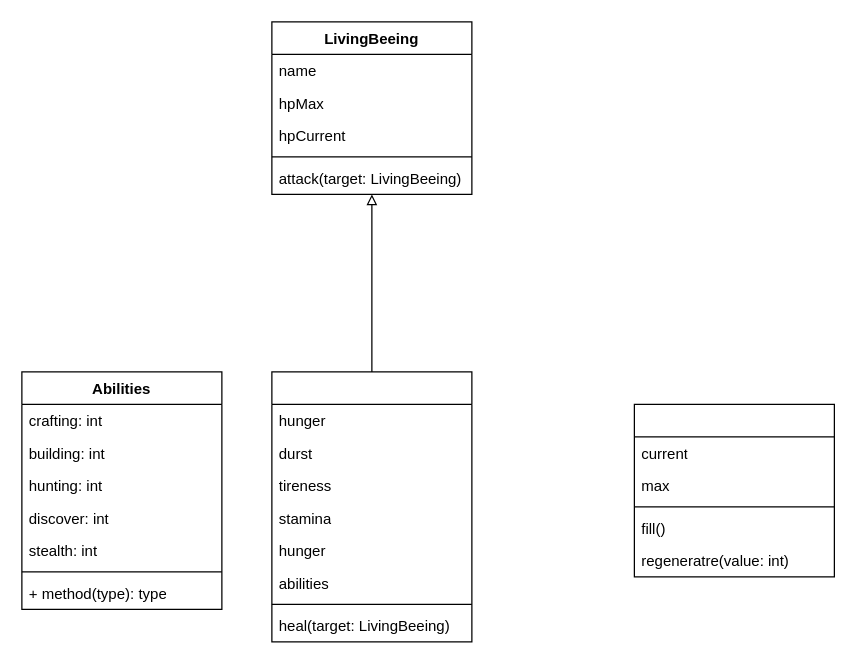
This 856x668 diagram has some shape labels left out. The box of each missing label's shape, as (x1, y1, x2, y2) in pixels:
Person: (271, 371, 472, 642)
Stat: (633, 403, 834, 577)
